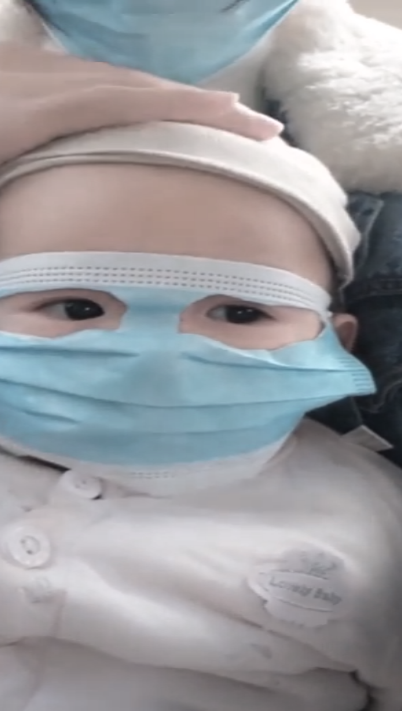mask_weared_incorrect: (1, 134, 371, 475)
